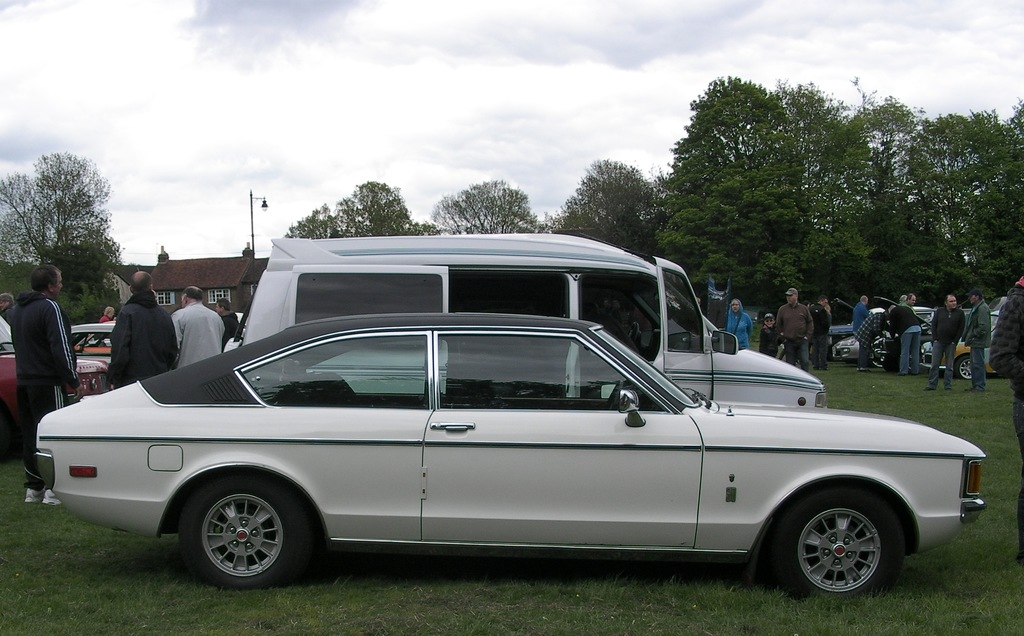mobil: (31, 320, 992, 605)
